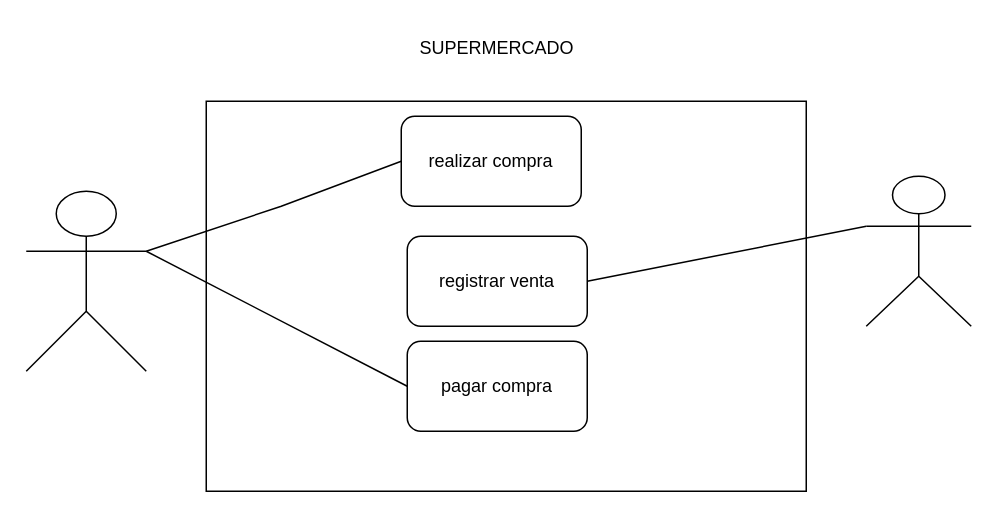
This 998x518 diagram has some shape labels left out. Each missing label, with the centre of its shape:
"cliente" goes at [85,280].
"empleado" goes at [918,250].
